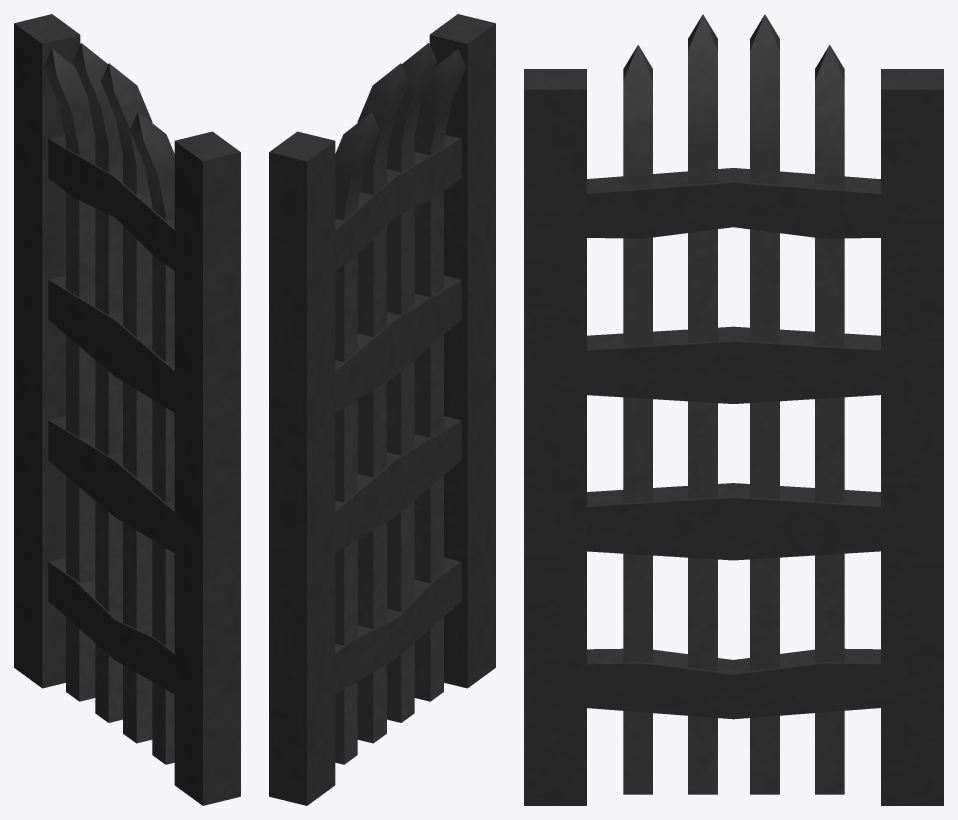
File: IronFence1.fbx
The picture shows the model from 3 angles, left to right: view 1: azimuth 30°, elevation 25°; view 2: azimuth 150°, elevation 25°; view 3: azimuth 270°, elevation 25°; orthographic projection. The views are drawn at different scales.
Parts seen in each view (by area): view 1: IronFence1; view 2: IronFence1; view 3: IronFence1.
Boxes of the visible parts, x1,y1,x2,y2 form: IronFence1: (14, 14, 240, 805); IronFence1: (269, 14, 495, 805); IronFence1: (524, 14, 943, 805).
Bounding box in the file's own units: 32.32 × 400 × 199.
1 material, 1 textured.
